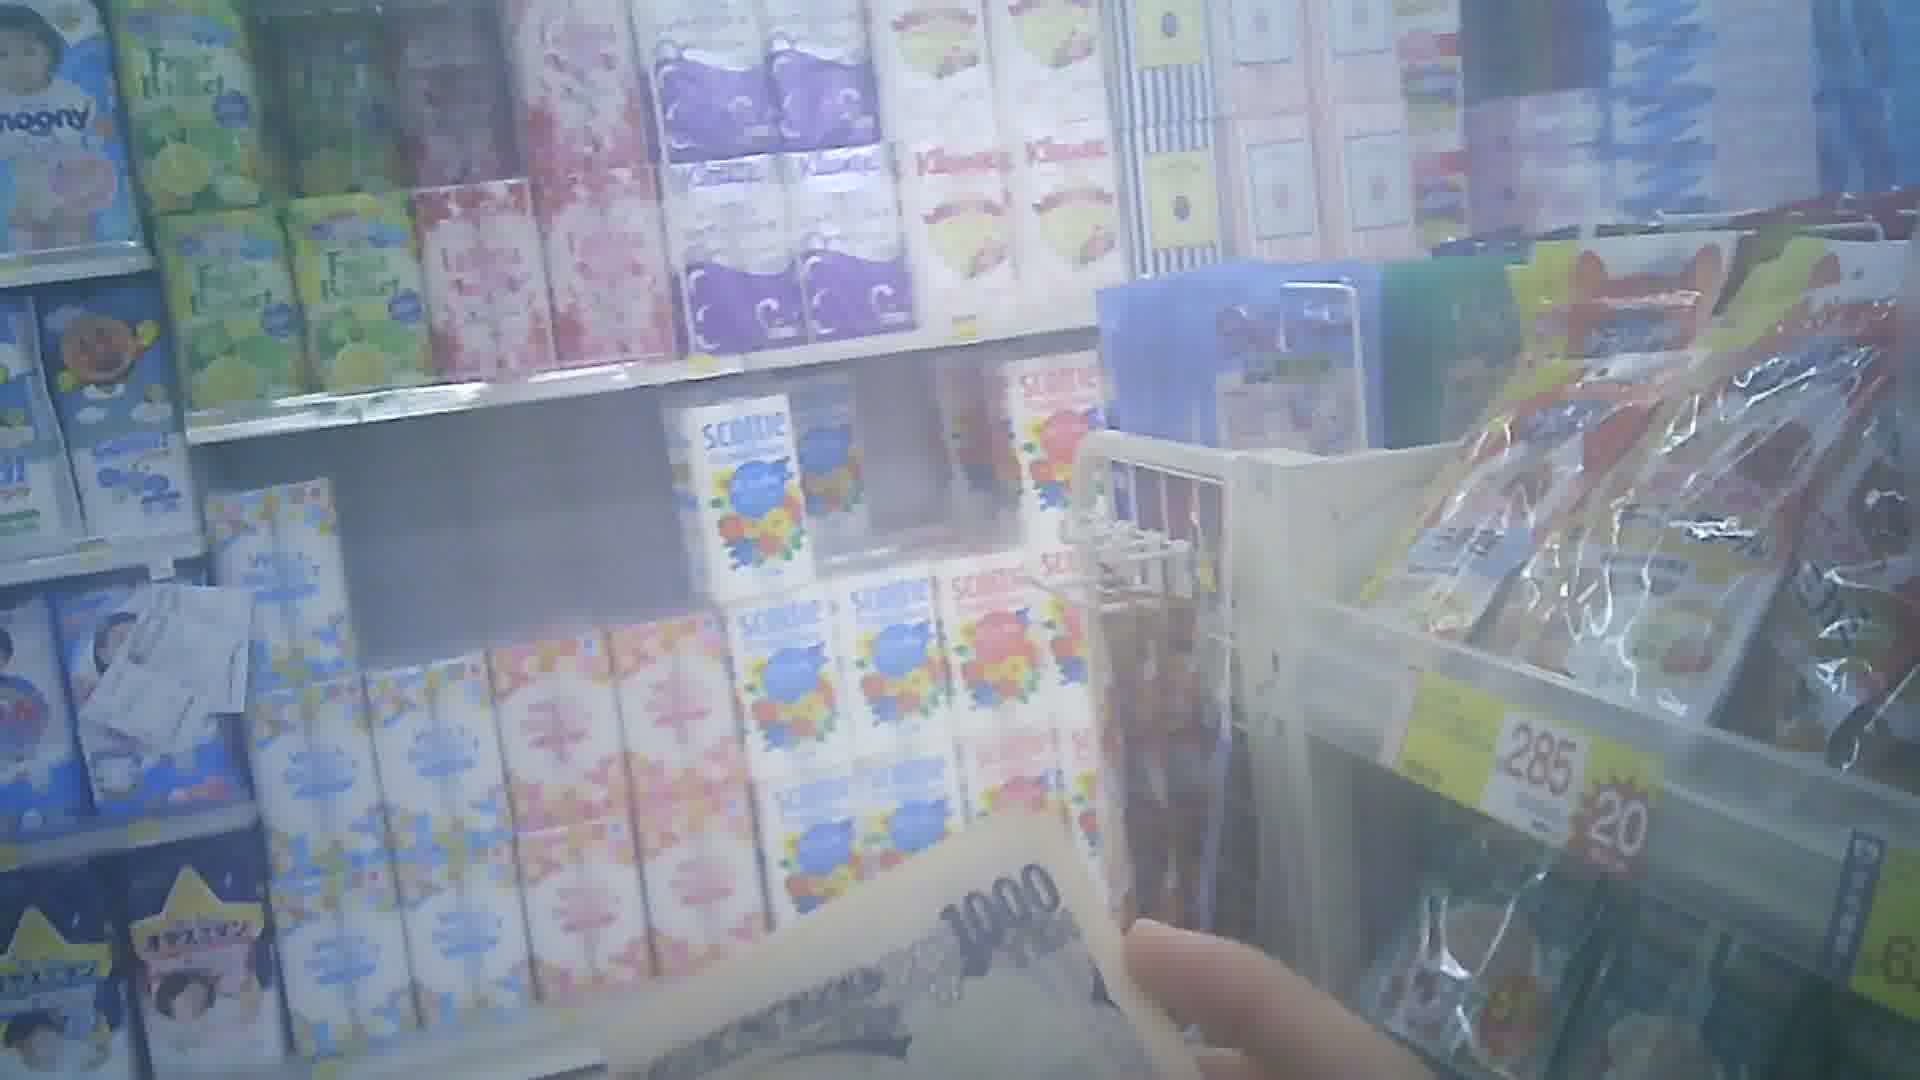1,000 Yen: (575, 775, 1191, 1079)
